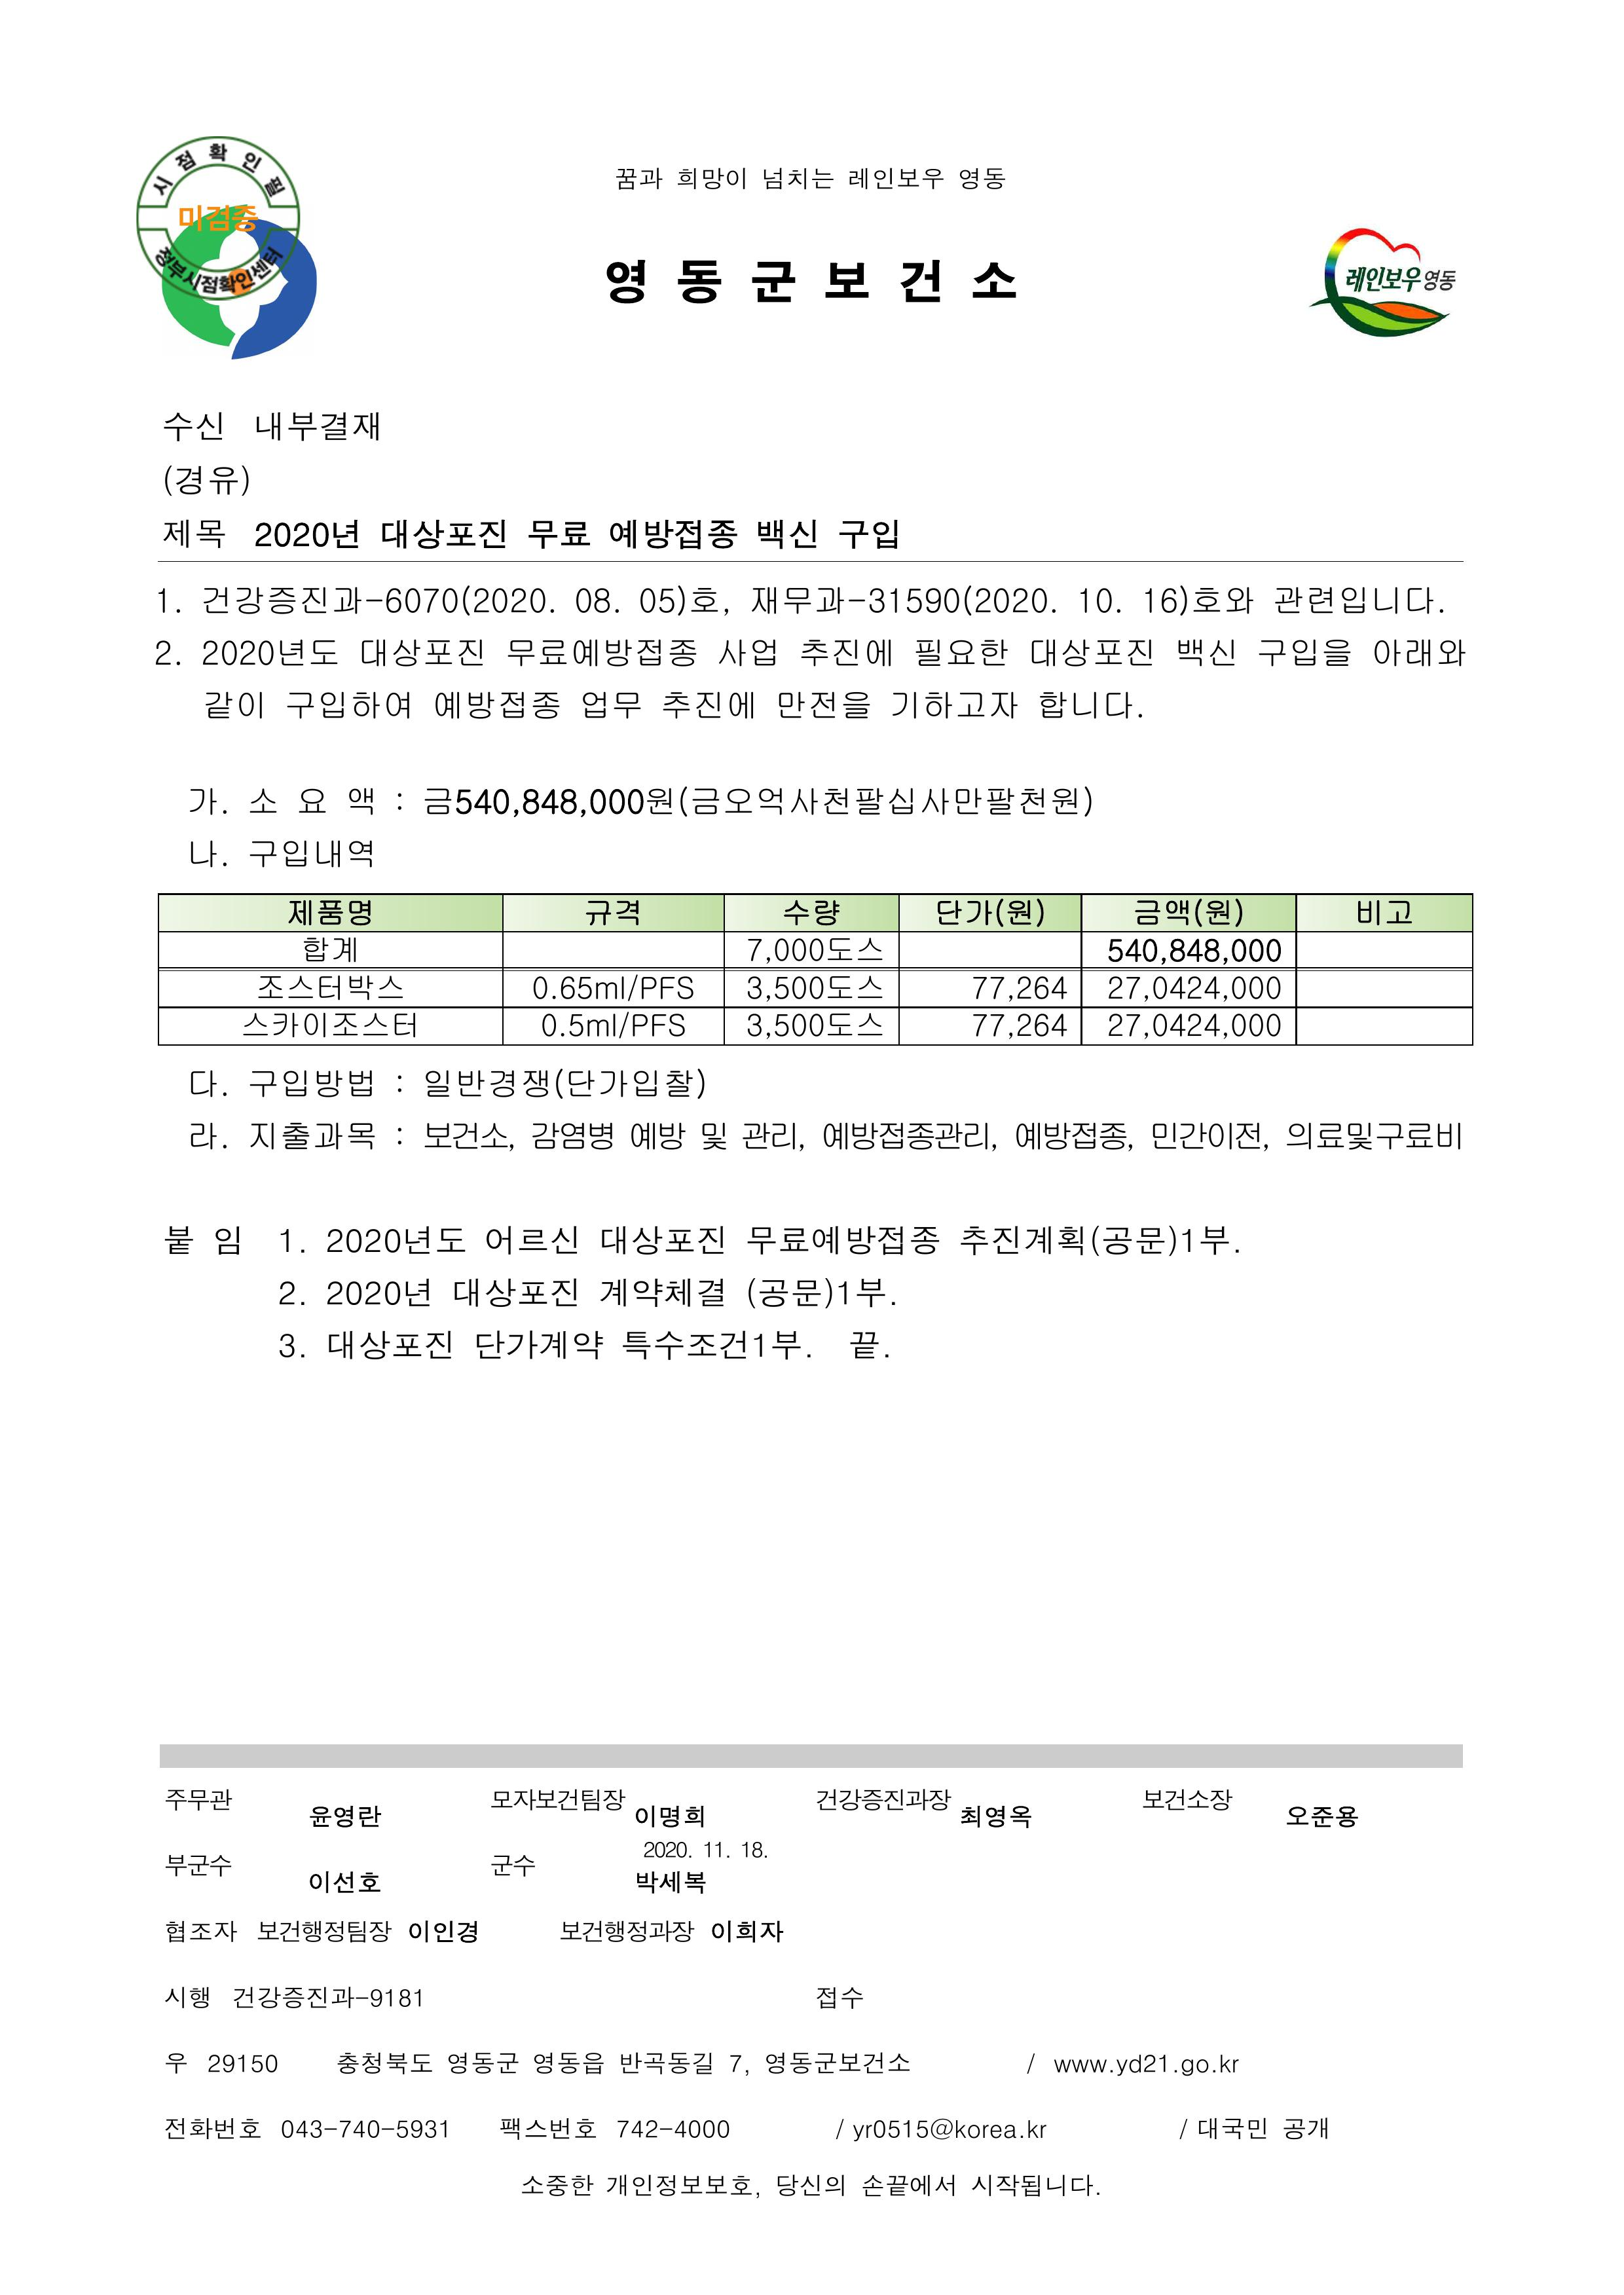t: (671, 255, 1018, 311), (678, 782, 1093, 821), (954, 1216, 1234, 1258), (745, 582, 1058, 617), (424, 1065, 707, 1100), (745, 1220, 939, 1258), (506, 634, 700, 671), (200, 582, 383, 620), (1269, 582, 1445, 620), (817, 1118, 1000, 1155), (1283, 1118, 1466, 1155), (620, 1327, 807, 1362), (228, 1982, 424, 2016), (418, 782, 580, 821), (742, 1272, 893, 1313), (380, 582, 552, 617), (244, 1007, 418, 1040), (448, 1272, 580, 1313), (244, 1116, 380, 1155), (197, 634, 337, 671), (596, 1272, 724, 1313), (603, 2168, 756, 2202), (606, 513, 738, 552), (431, 685, 562, 724), (538, 1007, 689, 1040), (322, 1327, 452, 1365), (283, 685, 411, 724), (359, 634, 487, 671), (761, 2047, 910, 2079), (473, 1327, 606, 1362), (1025, 634, 1151, 671), (246, 835, 373, 872), (376, 517, 506, 552), (246, 1065, 376, 1100), (1011, 1118, 1134, 1155), (251, 409, 380, 445), (889, 685, 1018, 720), (1148, 1118, 1269, 1155), (555, 972, 696, 1003), (555, 1915, 696, 1947), (255, 1915, 394, 1947), (599, 1223, 724, 1258), (968, 2168, 1097, 2202), (810, 1785, 953, 1815), (1035, 685, 1144, 724), (255, 972, 404, 1000), (322, 1223, 434, 1258), (1137, 583, 1255, 617), (251, 517, 362, 552), (773, 685, 872, 724), (1341, 262, 1459, 293), (910, 634, 1011, 671), (772, 1007, 882, 1040), (932, 896, 1048, 928), (279, 2119, 452, 2140), (490, 1789, 627, 1815), (796, 634, 893, 671), (1255, 634, 1352, 671), (1369, 634, 1466, 671), (156, 462, 251, 499), (322, 1276, 431, 1307), (483, 1223, 580, 1258), (1049, 2058, 1169, 2086), (494, 2112, 599, 2144), (527, 1118, 617, 1155), (842, 162, 946, 193), (773, 935, 882, 965), (656, 689, 756, 720), (334, 2047, 434, 2079), (613, 2047, 714, 2079), (584, 782, 673, 817), (283, 896, 373, 931), (176, 200, 258, 237), (1169, 938, 1283, 965), (634, 583, 724, 617), (424, 1118, 513, 1151), (861, 2172, 961, 2202), (1144, 1785, 1234, 1815), (631, 1799, 710, 1833), (517, 2168, 596, 2202), (975, 975, 1069, 1003), (603, 258, 656, 308), (772, 2168, 849, 2202), (914, 2119, 1018, 2144), (738, 1118, 807, 1155), (308, 1799, 383, 1833), (958, 1799, 1033, 1833), (1283, 1799, 1359, 1833), (756, 162, 835, 193), (707, 1915, 786, 1947), (445, 2047, 524, 2079), (1190, 2112, 1269, 2144), (1141, 1010, 1223, 1040), (752, 517, 821, 552), (617, 2119, 731, 2140), (1172, 634, 1237, 671), (404, 1915, 480, 1947), (531, 2047, 606, 2079), (162, 2112, 237, 2144), (162, 1782, 232, 1815), (162, 409, 227, 445), (162, 517, 227, 552), (835, 517, 900, 552), (204, 689, 269, 724), (717, 634, 779, 671), (627, 1118, 689, 1155), (527, 517, 591, 552), (1165, 900, 1244, 928), (1104, 931, 1169, 965), (304, 1868, 380, 1896), (631, 1868, 707, 1896), (576, 689, 642, 720), (301, 931, 362, 965), (773, 975, 856, 1000), (1141, 975, 1223, 1000), (1011, 1007, 1069, 1040), (165, 1850, 232, 1879), (207, 2051, 283, 2075), (584, 896, 642, 928), (780, 896, 838, 928), (678, 169, 752, 193), (165, 1922, 239, 1947), (569, 583, 620, 617), (613, 162, 666, 193), (1220, 1014, 1283, 1040), (953, 162, 1004, 193), (186, 782, 232, 817), (849, 2119, 914, 2144), (845, 1327, 889, 1362), (1072, 583, 1118, 617), (1220, 975, 1280, 1000), (162, 1982, 211, 2012), (814, 1982, 863, 2012), (490, 1850, 534, 1882), (1104, 1007, 1144, 1040), (186, 1065, 221, 1100), (186, 835, 221, 868), (186, 1118, 221, 1151), (211, 1223, 244, 1258), (696, 1118, 728, 1155), (1283, 2119, 1330, 2144), (642, 1840, 696, 1861), (244, 786, 279, 817), (294, 786, 329, 817), (1107, 975, 1144, 1003), (972, 1014, 1011, 1040), (434, 1223, 466, 1255), (276, 1276, 308, 1307), (165, 1223, 193, 1258), (155, 638, 179, 671), (156, 589, 183, 617), (745, 975, 772, 1003), (1179, 2058, 1213, 2079), (348, 789, 376, 814), (279, 1230, 308, 1255), (279, 1334, 301, 1362), (703, 1840, 731, 1861), (738, 1840, 766, 1861), (745, 1014, 766, 1040), (728, 2054, 752, 2075), (239, 2119, 262, 2140), (1025, 2123, 1051, 2140), (169, 2051, 186, 2075), (1216, 2058, 1241, 2075)
